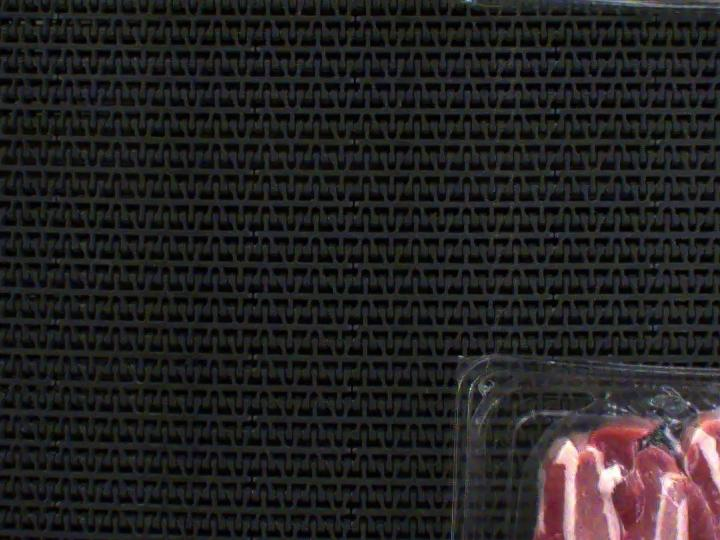unsealed: (520, 382, 720, 540)
